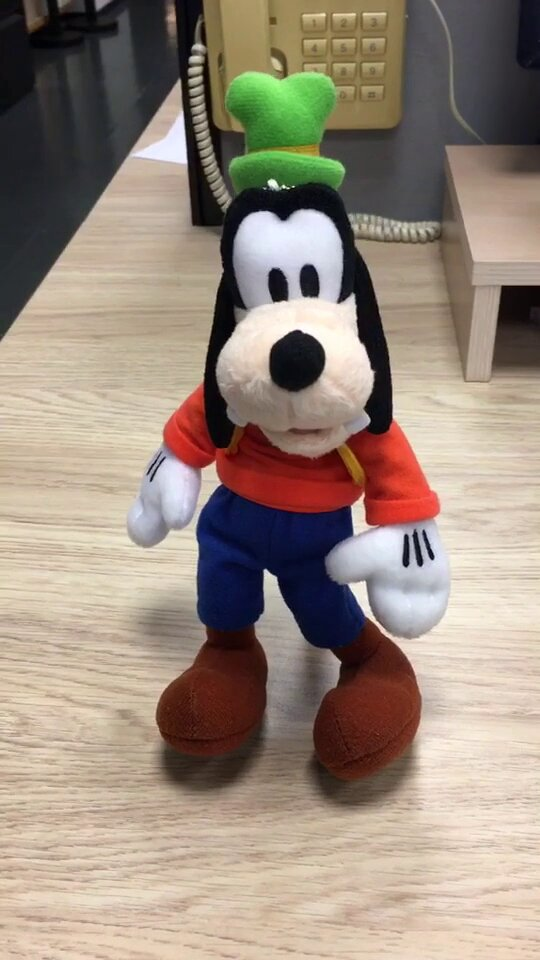goofy: (115, 66, 453, 797)
